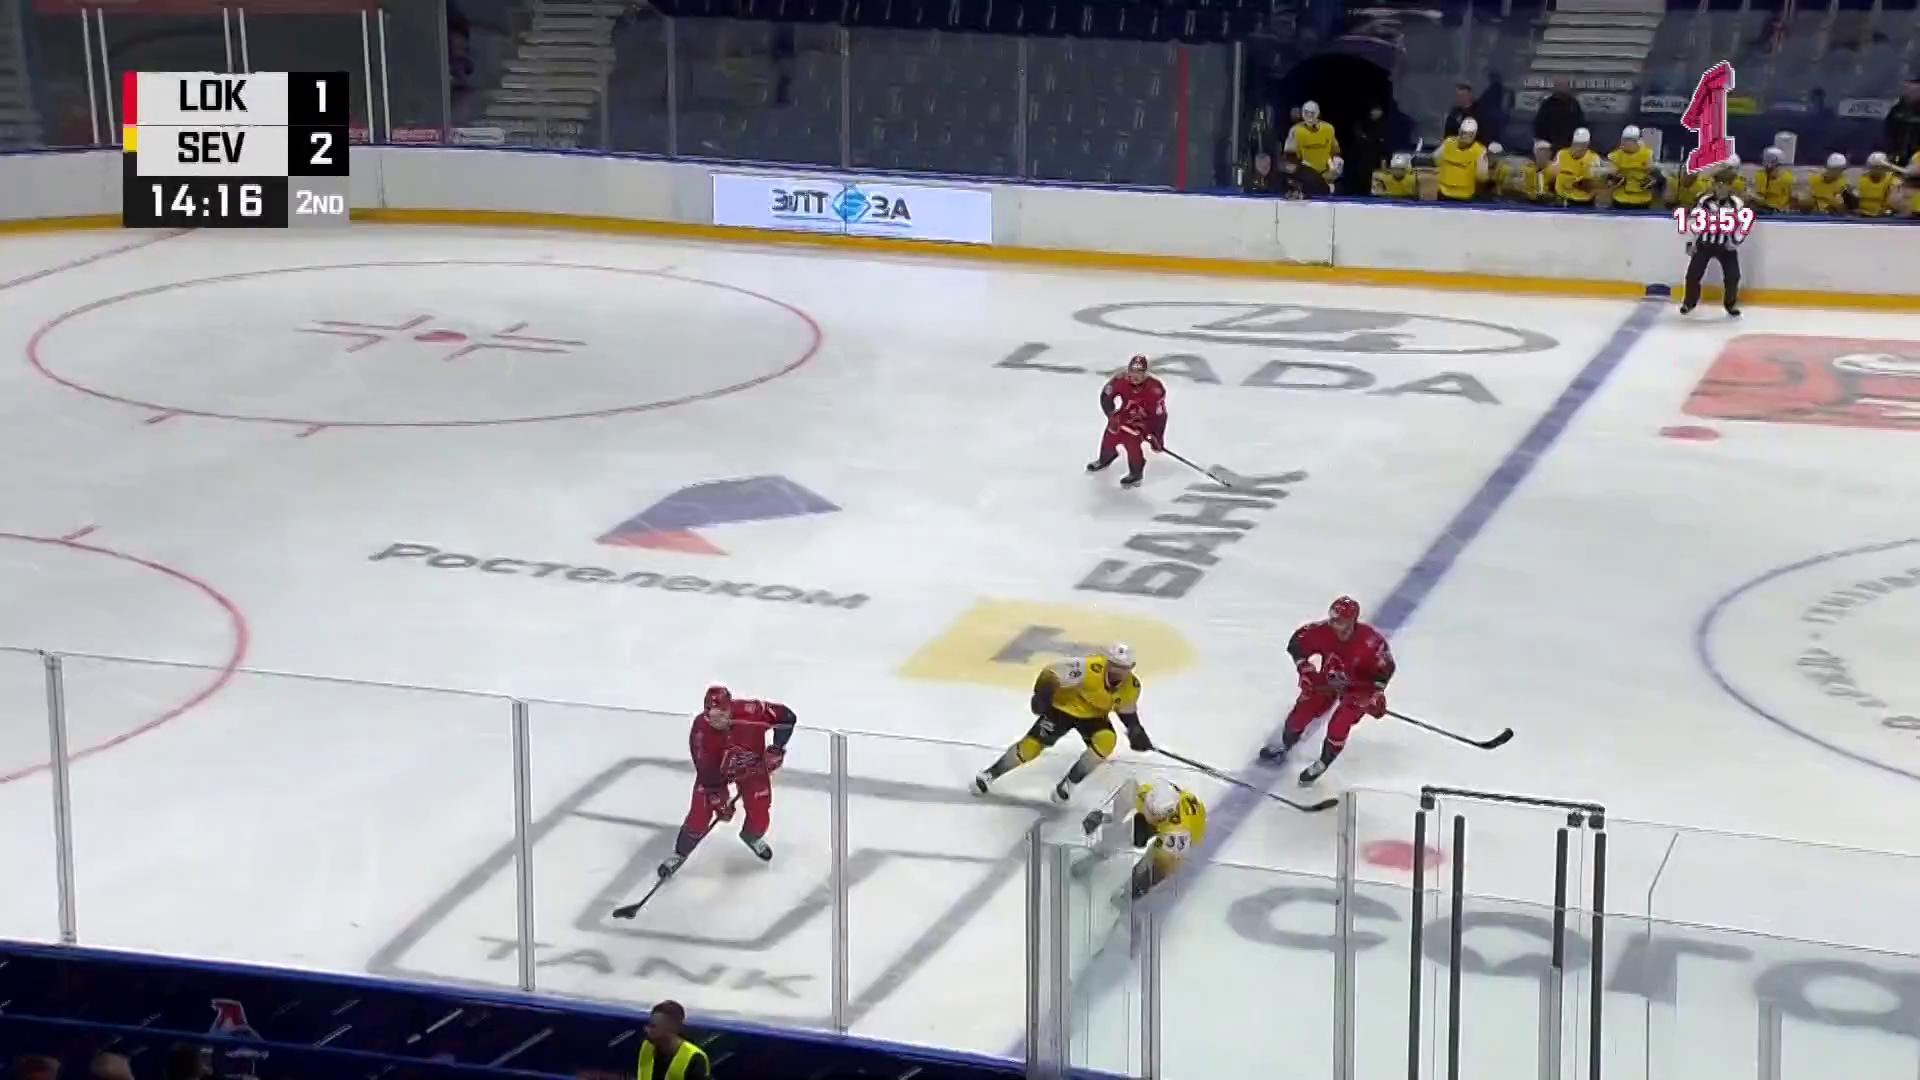ball: (625, 913, 637, 919)
